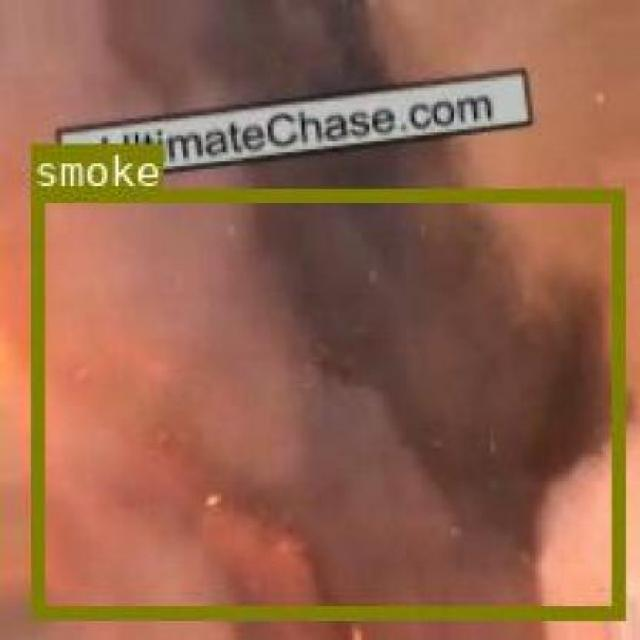Smoke: (29, 187, 620, 616)
